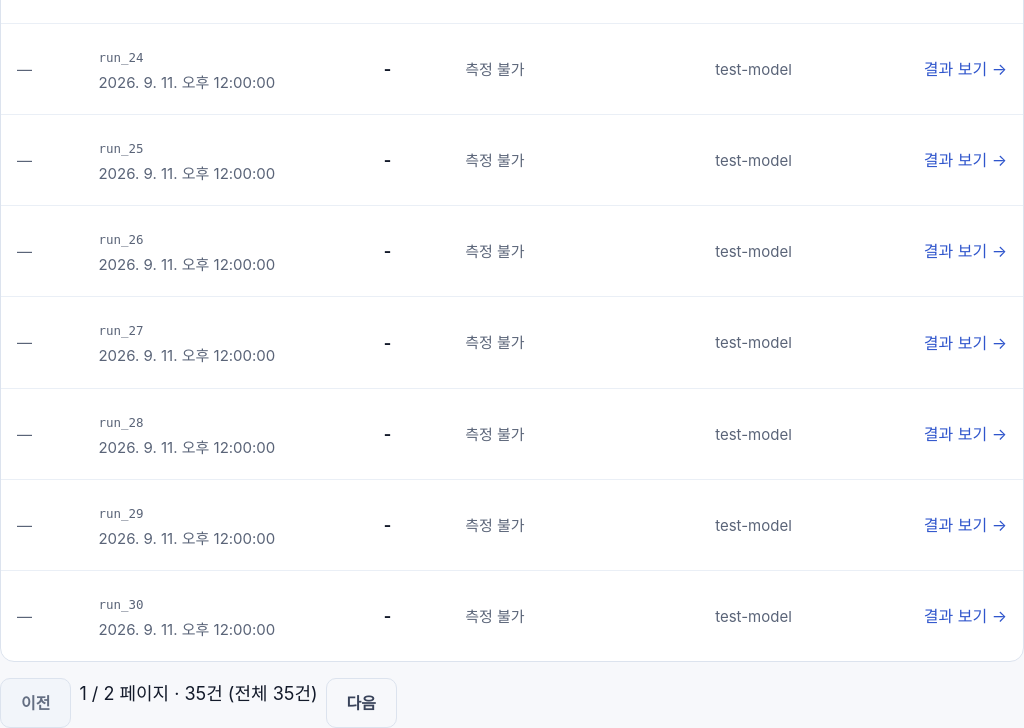
31번째 이후 진단도 페이지 이동과 검색으로 열 수 있다
This screenshot has width=1024, height=728.
(page scrolled)
Expected: the text "run_35" is not shown
Click the button "다음" at (361, 704), box [326,678,397,727]
(page scrolled)
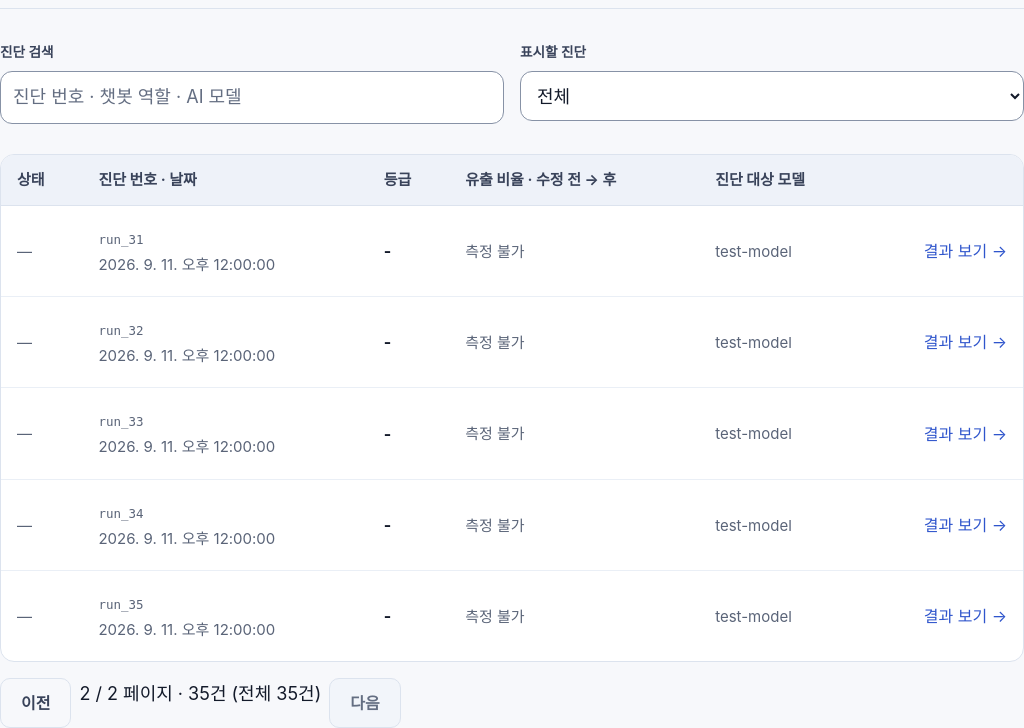
Now the text "run_35" is shown, box [98,597,143,612]
Type "run_02" into the field labelled "진단 검색" at (252, 97), box [0,71,504,124]
(page scrolled)
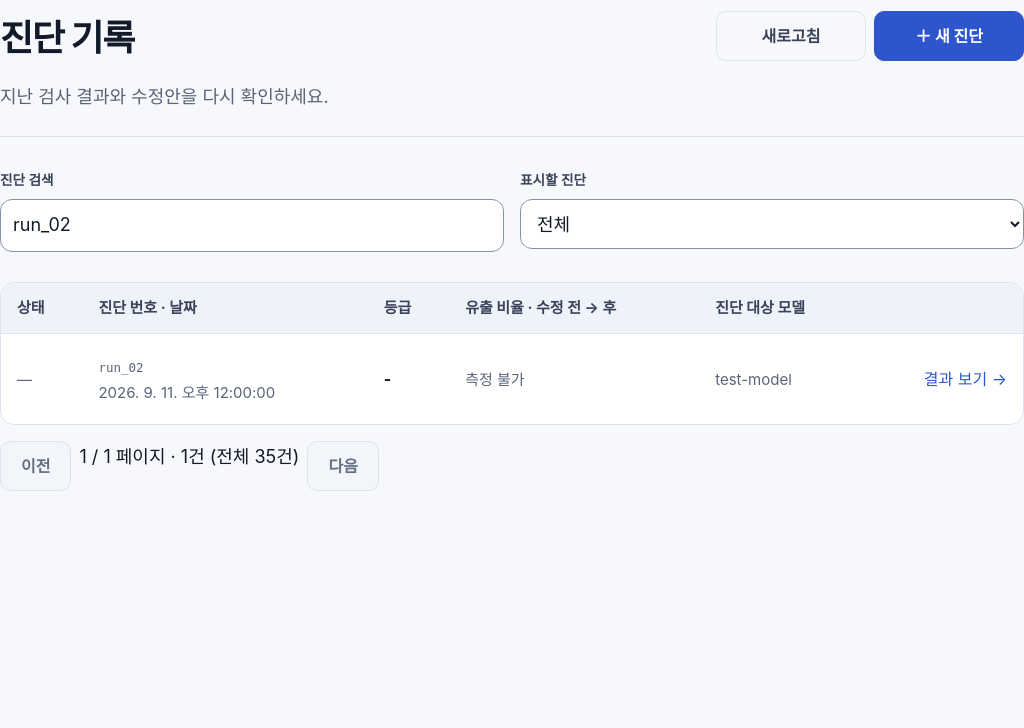
Now the text "run_02" is shown, box [98,360,143,375]
Now the text "run_35" is gone
